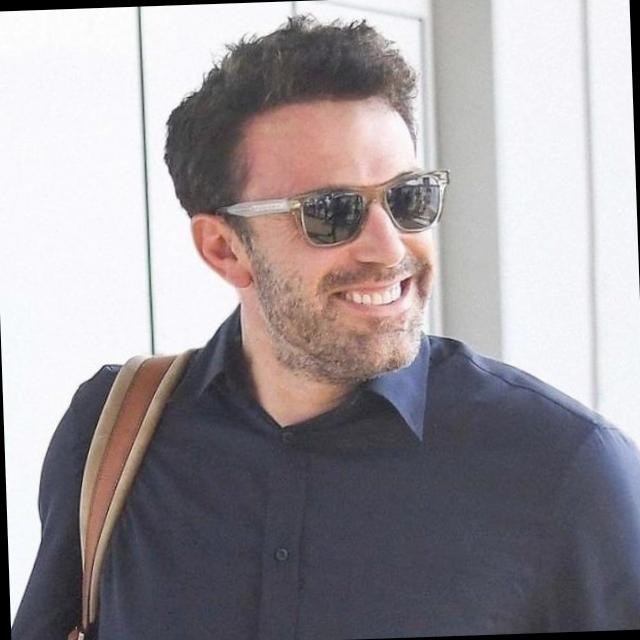glasses: (221, 163, 453, 254)
